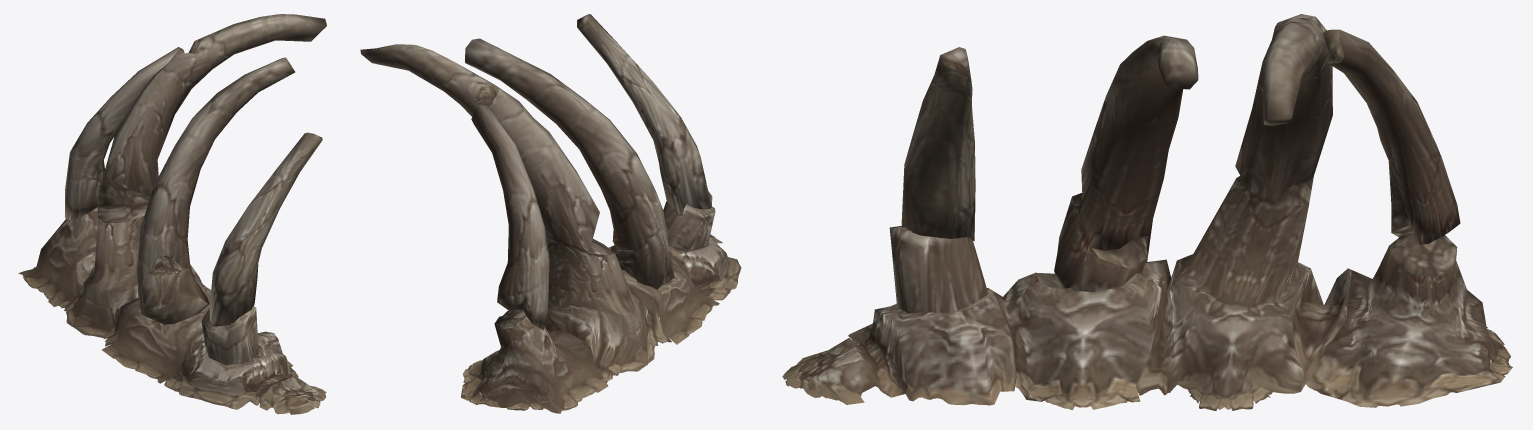
Rendered from xssm_gutoujia_01.FBX.
3 views of the same model, side by side, from view 1: azimuth 30°, elevation 25°; view 2: azimuth 150°, elevation 25°; view 3: azimuth 270°, elevation 25° (orthographic). The views are drawn at different scales.
Parts seen in each view (by area): view 1: xssm_gutoujia_01, xssm_gutoujia_01_02; view 2: xssm_gutoujia_01, xssm_gutoujia_01_02; view 3: xssm_gutoujia_01, xssm_gutoujia_01_02.
Boxes of the visible parts, left/top/right/bottom form: xssm_gutoujia_01: left=18, top=14, right=326, bottom=414; xssm_gutoujia_01_02: left=65, top=47, right=322, bottom=365; xssm_gutoujia_01: left=360, top=44, right=741, bottom=413; xssm_gutoujia_01_02: left=465, top=14, right=715, bottom=330; xssm_gutoujia_01: left=782, top=14, right=1512, bottom=410; xssm_gutoujia_01_02: left=889, top=29, right=1460, bottom=313.
Size of the model in its own units: 234 by 216 by 343.
